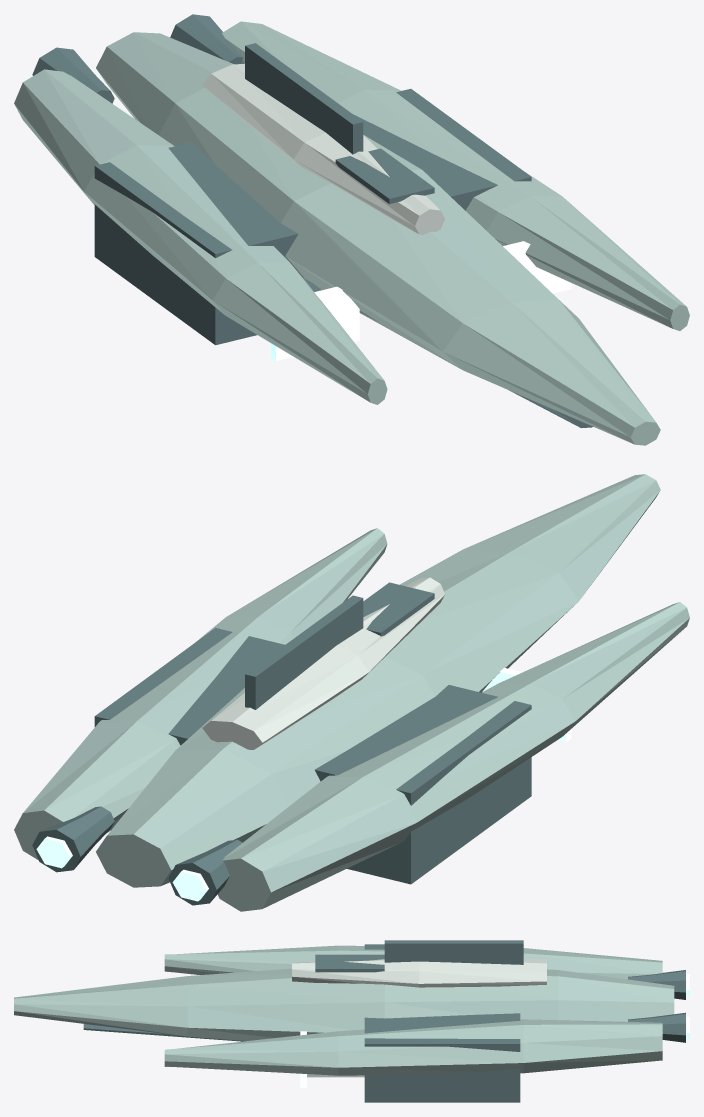
3 views of the same model, one above another, from view 1: azimuth 30°, elevation 25°; view 2: azimuth 150°, elevation 25°; view 3: azimuth 270°, elevation 25° (orthographic). The views are drawn at different scales.
Size of the model in its own units: 8.33 by 3.78 by 20.84.
